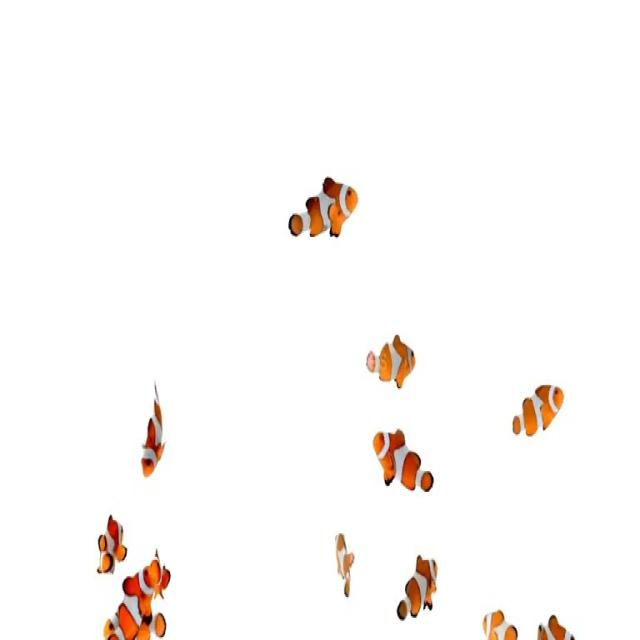fish: (286, 158, 366, 290), (365, 413, 443, 522), (503, 376, 579, 465), (385, 548, 460, 631), (358, 322, 430, 408), (131, 380, 183, 499), (117, 542, 182, 602), (84, 506, 129, 578), (94, 598, 169, 640), (329, 524, 364, 606), (529, 592, 580, 640), (478, 591, 524, 640)
